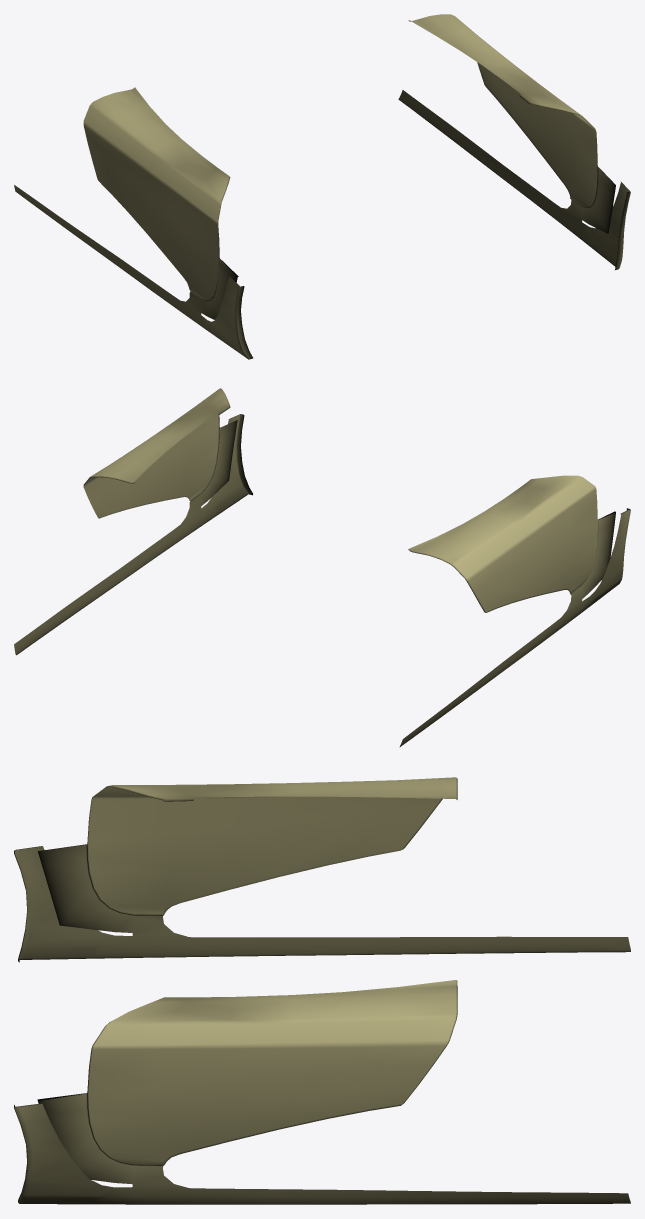
File: Agera_Chassis_Duco.fbx
3 views of the same model, one above another, from view 1: azimuth 30°, elevation 25°; view 2: azimuth 150°, elevation 25°; view 3: azimuth 270°, elevation 25° (orthographic). The views are drawn at different scales.
Parts seen in each view (by area): view 1: Agera_Chassis_Duco; view 2: Agera_Chassis_Duco; view 3: Agera_Chassis_Duco.
Part boxes in pixels (left/top/right/bottom): Agera_Chassis_Duco: left=14, top=14, right=630, bottom=359; Agera_Chassis_Duco: left=14, top=388, right=630, bottom=747; Agera_Chassis_Duco: left=14, top=777, right=630, bottom=1204.
Bounding box in the file's own units: 195 × 67.56 × 196.
